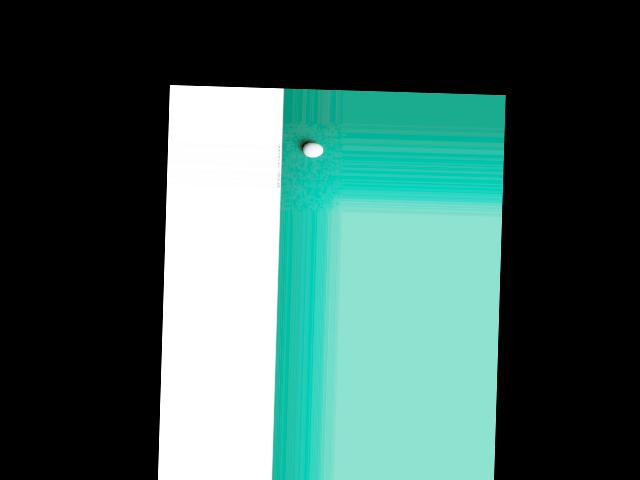egg: (302, 143, 323, 158)
